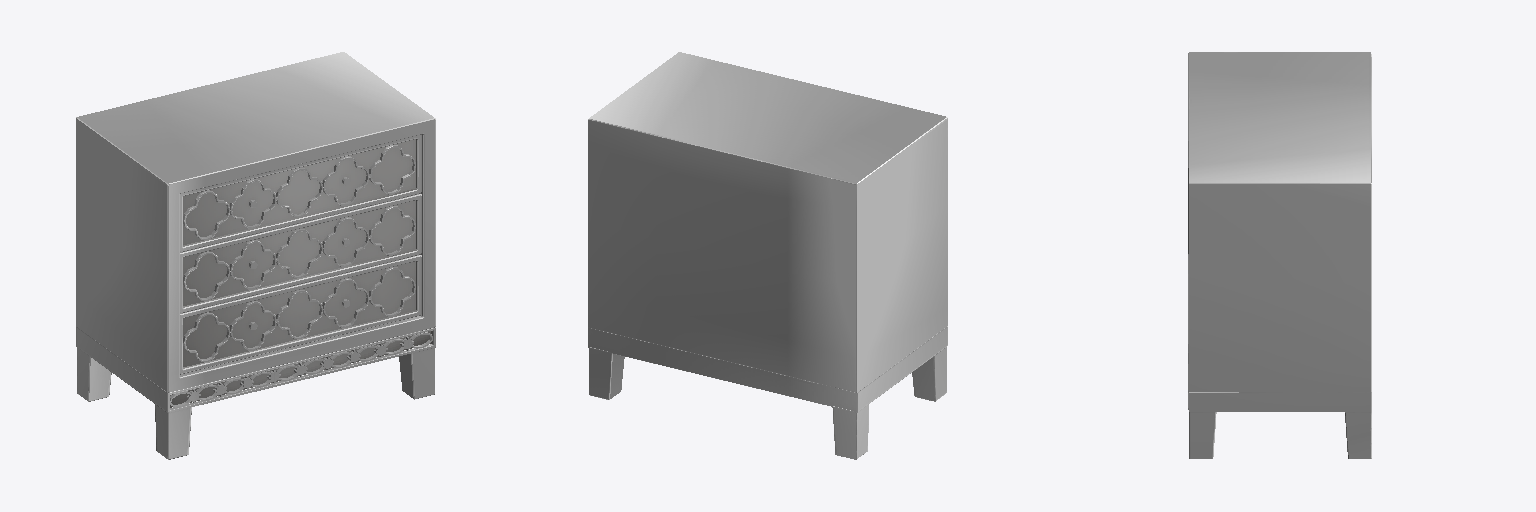
3 views of the same model, side by side, from view 1: azimuth 30°, elevation 25°; view 2: azimuth 150°, elevation 25°; view 3: azimuth 270°, elevation 25° (orthographic).
Bounding box in the file's own units: 0.4846 × 0.476 × 0.2876.
Materials: 1 (1 with a texture image).